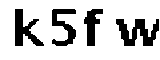5: (46, 6, 79, 51)
f: (83, 6, 105, 48)
k: (8, 5, 43, 50)
w: (113, 15, 160, 48)
